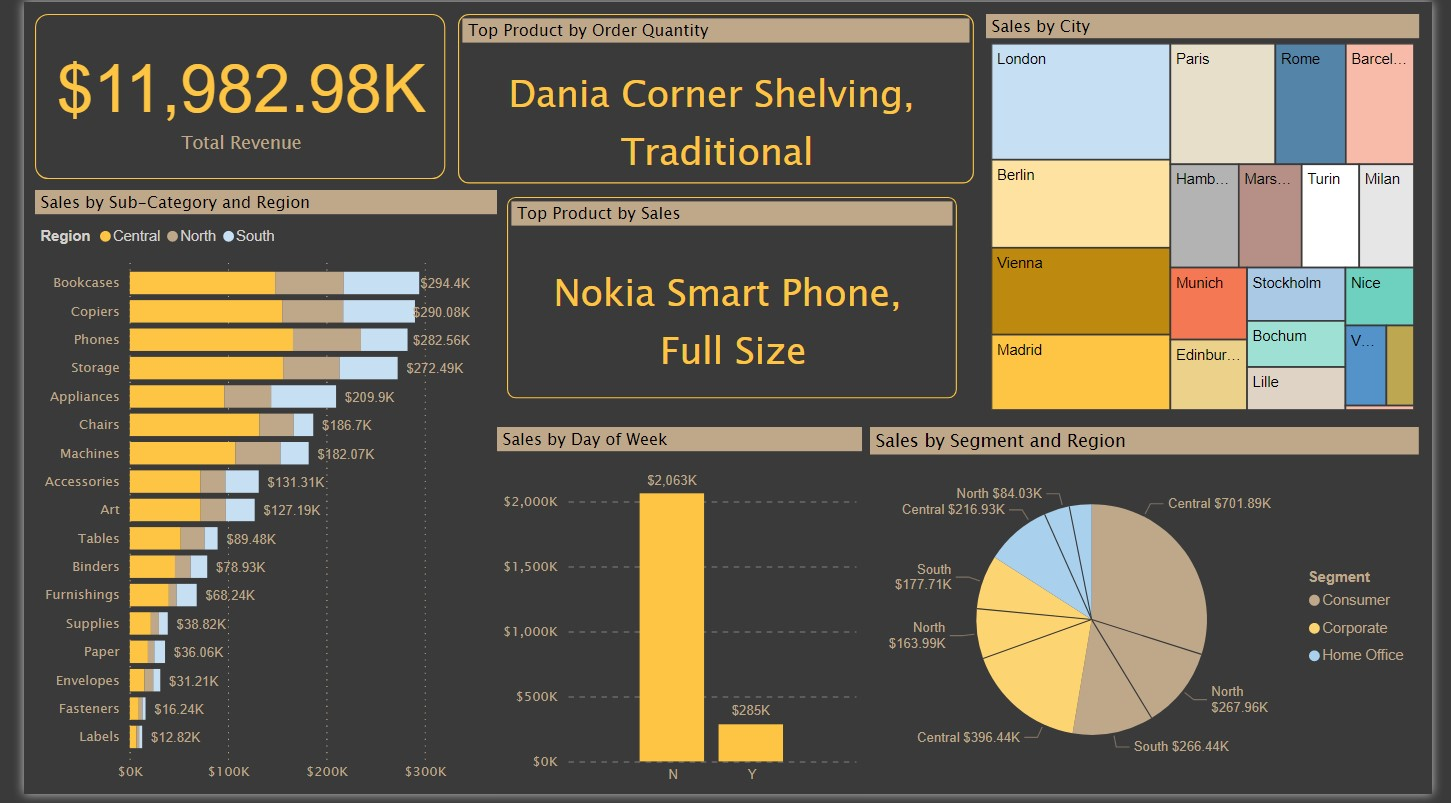

Layout of this report page (visuals, bound fields, positions):
{"tool":"powerbi","page":{"name":"Sales","canvas":[1280,720],"ordinal":1},"visuals":[{"type":"pieChart","fields":{"Y":["Sum(walmart_sales.Sales)"],"Series":["walmart_sales.Region"],"Category":["walmart_sales.Segment"]},"box":[769.4,386.1,499,324.9],"z":0},{"type":"card","title":"Top Product by Sales","fields":{"Values":["Min(walmart_sales.Product Name)"]},"box":[438.7,177,409.5,182.9],"z":1},{"type":"card","title":"Top Product by Order Quantity","fields":{"Values":["Min(walmart_sales.Product Name)"]},"box":[394.9,10.7,468.8,153.7],"z":2},{"type":"card","fields":{"Values":["walmart_sales.total Revenue"]},"box":[9.7,10.7,373.5,149.8],"z":3},{"type":"clusteredColumnChart","title":"Sales by Day of Week","fields":{"Category":["walmart_sales.weekend"],"Y":["Sum(walmart_sales.Sales)"]},"box":[429.9,386.1,331.7,331.7],"z":5},{"type":"barChart","fields":{"Category":["walmart_sales.Sub-Category"],"Y":["Sum(walmart_sales.Sales)"],"Series":["walmart_sales.Region"]},"box":[9.7,171.2,420.2,548.6],"z":6},{"type":"treemap","fields":{"Group":["walmart_sales.City"],"Values":["Sum(walmart_sales.Sales)"]},"box":[874.4,10.7,393.9,364.7],"z":7}]}

Visuals, with their boxes in screenshot pixels (x1, y1, x2, y2), scaled from the page's 1280x720 canvas onto the 1451x803 screenshot:
pieChart - Sum(walmart_sales.Sales) x walmart_sales.Region: {"left": 872, "top": 431, "right": 1438, "bottom": 793}
"Top Product by Sales" card: {"left": 497, "top": 197, "right": 962, "bottom": 401}
"Top Product by Order Quantity" card: {"left": 448, "top": 12, "right": 979, "bottom": 183}
card - walmart_sales.total Revenue: {"left": 11, "top": 12, "right": 434, "bottom": 179}
"Sales by Day of Week" clusteredColumnChart: {"left": 487, "top": 431, "right": 863, "bottom": 801}
barChart - walmart_sales.Sub-Category x Sum(walmart_sales.Sales): {"left": 11, "top": 191, "right": 487, "bottom": 802}
treemap - walmart_sales.City x Sum(walmart_sales.Sales): {"left": 991, "top": 12, "right": 1438, "bottom": 419}
